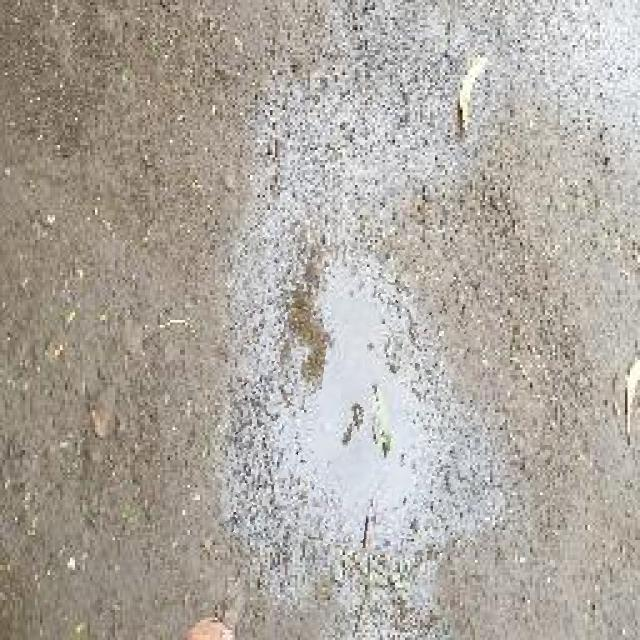puddle: (226, 243, 475, 557)
